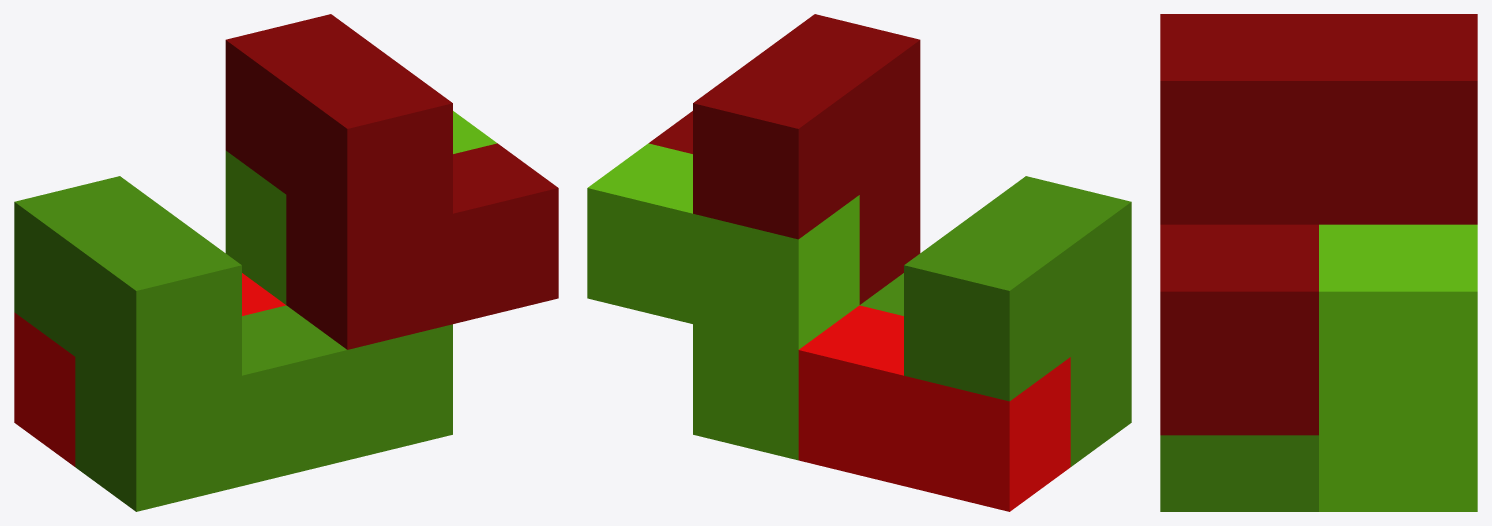
3 renders of one model, left to right at view 1: azimuth 30°, elevation 25°; view 2: azimuth 150°, elevation 25°; view 3: azimuth 270°, elevation 25°, orthographic. The views are drawn at different scales.
Visible parts, largest first — view 1: mergedBlocks(Clone); view 2: mergedBlocks(Clone); view 3: mergedBlocks(Clone).
Part boxes in pixels (x1=…): mergedBlocks(Clone): x1=14, y1=14, x2=558, y2=511; mergedBlocks(Clone): x1=587, y1=14, x2=1131, y2=511; mergedBlocks(Clone): x1=1160, y1=14, x2=1477, y2=511.
Size of the model in its own units: 4 by 3 by 2.
Materials: 4 (4 with a texture image).
